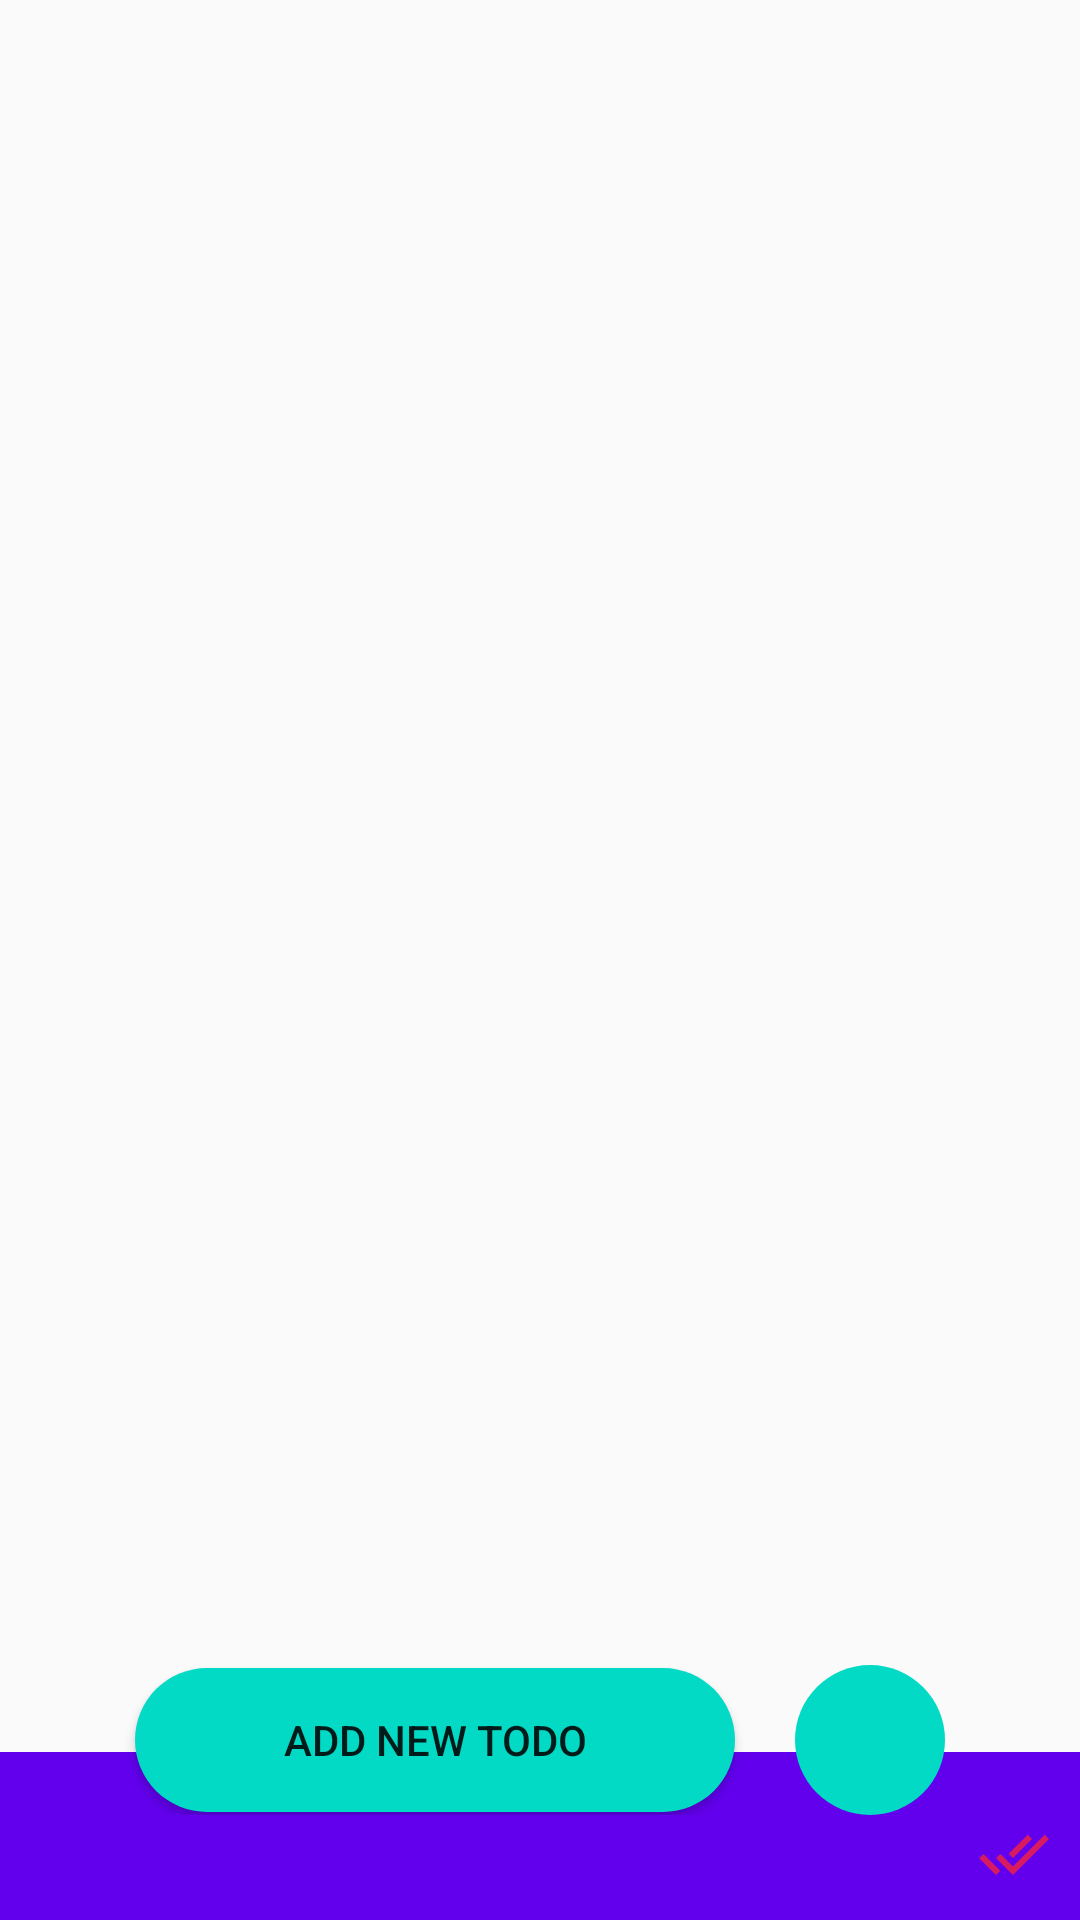

Locate icon controls on the screen. Image size 1080 x 1920, boxes as bbox=(x1, y1, x2, y2).
clear all todo's: bbox=(979, 1835, 1049, 1875)
